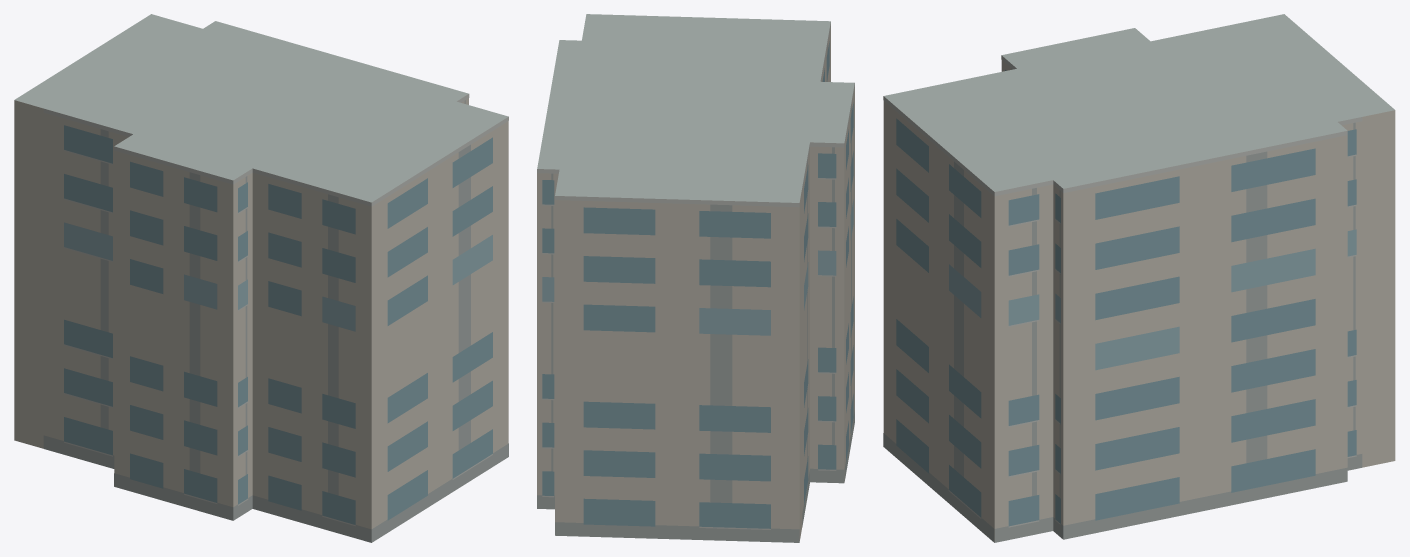
The model's file is survey-upis-32696549.glb.
The picture shows the model from 3 angles, left to right: view 1: azimuth 30°, elevation 25°; view 2: azimuth 150°, elevation 25°; view 3: azimuth 270°, elevation 25°; orthographic projection. The views are drawn at different scales.
Visible parts, largest first — view 1: survey-upis-32696549.tmp; view 2: survey-upis-32696549.tmp; view 3: survey-upis-32696549.tmp.
Part boxes in pixels (<box>): survey-upis-32696549.tmp: <box>14,14,508,542</box>; survey-upis-32696549.tmp: <box>537,14,854,542</box>; survey-upis-32696549.tmp: <box>883,14,1395,542</box>.
Bounding box in the file's own units: 21.56 × 19.8 × 26.19.
